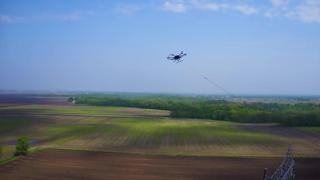UAV: (167, 51, 187, 64)
